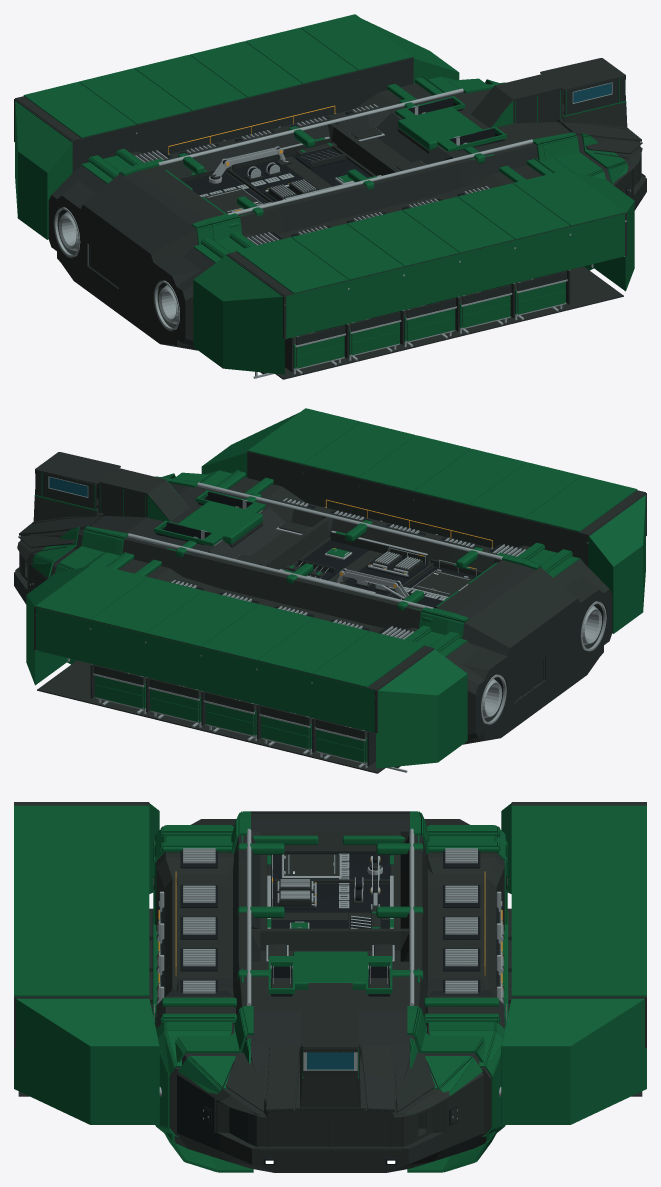
Rendered from pioneer.glb.
3 views of the same model, one above another, from view 1: azimuth 30°, elevation 25°; view 2: azimuth 150°, elevation 25°; view 3: azimuth 270°, elevation 25° (orthographic). The views are drawn at different scales.
Parts seen in each view (by area): view 1: Pioneer saved-master body; view 2: Pioneer saved-master body; view 3: Pioneer saved-master body.
Boxes of the visible parts, bbox=[...] form: Pioneer saved-master body: bbox=[14, 14, 646, 379]; Pioneer saved-master body: bbox=[14, 408, 646, 773]; Pioneer saved-master body: bbox=[14, 802, 646, 1172].
Bounding box in the file's own units: 72 × 20.35 × 67.6.
